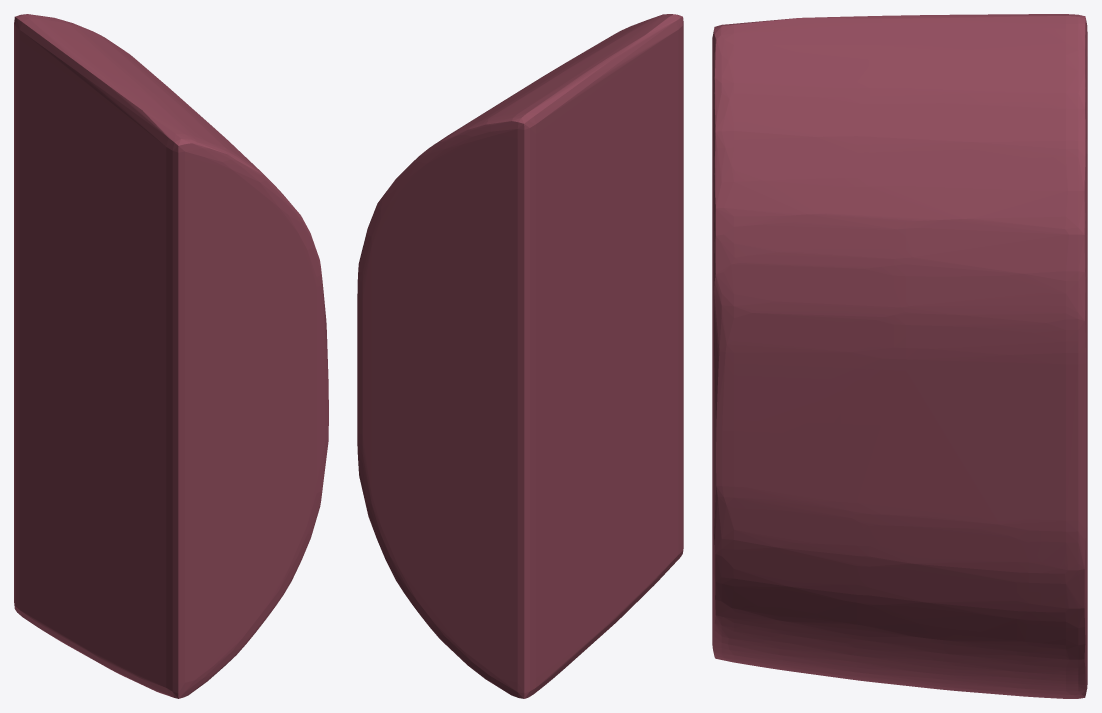
The model's file is right_f_distal_pst_part_13.obj.
3 views of the same model, side by side, from view 1: azimuth 30°, elevation 25°; view 2: azimuth 150°, elevation 25°; view 3: azimuth 270°, elevation 25° (orthographic). The views are drawn at different scales.
Size of the model in its own units: 4.39 by 14.13 by 7.09.
